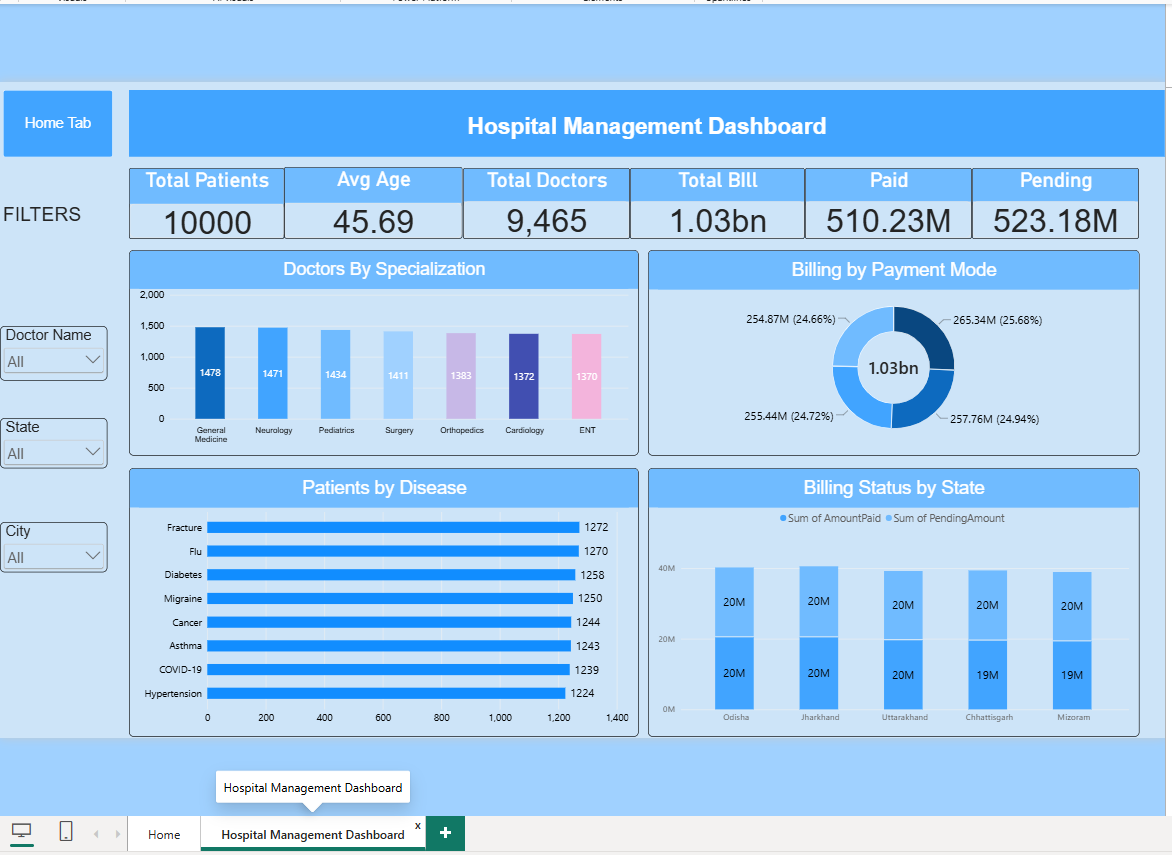

Layout of this report page (visuals, bound fields, positions):
{"tool":"powerbi","page":{"name":"Hospital Management Dashboard","canvas":[1920,1080],"ordinal":1},"visuals":[{"type":"cardVisual","title":"Total Patients","fields":{"Data":["Count(Hospital_Management_10k_Records.PatientID)"]},"box":[212.8,142.4,256,116.8],"z":0},{"type":"cardVisual","title":"Avg Age","fields":{"Data":["Avg(Hospital_Management_10k_Records.Age)"]},"box":[468.8,140.8,294.4,118.4],"z":1000},{"type":"cardVisual","title":"Total Doctors","fields":{"Data":["Count(Hospital_Management_10k_Records.DoctorName)"]},"box":[763.2,142.4,275.2,116.8],"z":2000},{"type":"columnChart","title":"Doctors By Specialization","fields":{"Category":["Hospital_Management_10k_Records.Specialization"],"Series":["Hospital_Management_10k_Records.Specialization"],"Y":["Count(Hospital_Management_10k_Records.DoctorName)"]},"box":[212.8,276.8,840,339.2],"z":3000},{"type":"donutChart","title":"Billing by Payment Mode","fields":{"Category":["Hospital_Management_10k_Records.PaymentMode"],"Y":["Sum(Hospital_Management_10k_Records.TotalBillAmount)"]},"box":[1067.2,276.8,809.6,339.2],"z":4000},{"type":"barChart","title":"Patients by Disease","fields":{"Category":["Hospital_Management_10k_Records.Disease"],"Y":["Count(Hospital_Management_10k_Records.PatientID)"]},"box":[212.8,636.8,840,443.2],"z":5000},{"type":"columnChart","title":"Billing Status by State","fields":{"Category":["Hospital_Management_10k_Records.State"],"Y":["Sum(Hospital_Management_10k_Records.AmountPaid)","Sum(Hospital_Management_10k_Records.PendingAmount)"]},"box":[1067.2,636.8,809.6,443.2],"z":6000},{"type":"slicer","fields":{"Values":["Hospital_Management_10k_Records.DoctorName"]},"box":[0,401.3,177.1,90.4],"z":7000},{"type":"slicer","fields":{"Values":["Hospital_Management_10k_Records.State"]},"box":[0,554,177.1,82.9],"z":8000},{"type":"slicer","fields":{"Values":["Hospital_Management_10k_Records.City"]},"box":[0,725.4,177.1,82.9],"z":9000},{"type":"textbox","box":[212.8,12.8,1707.2,110.4],"z":10000},{"type":"actionButton","box":[5.7,13.2,180.9,111.2],"z":11000},{"type":"cardVisual","title":"Total BIll ","fields":{"Data":["Sum(Hospital_Management_10k_Records.TotalBillAmount)"]},"box":[1038.4,142.4,288,116.8],"z":12000},{"type":"cardVisual","title":"Paid","fields":{"Data":["Sum(Hospital_Management_10k_Records.AmountPaid)"]},"box":[1326.4,142.4,275.2,116.8],"z":13000},{"type":"cardVisual","title":"Pending","fields":{"Data":["Sum(Hospital_Management_10k_Records.PendingAmount)"]},"box":[1601.6,142.4,275.2,116.8],"z":14000},{"type":"shape","box":[0,175.2,178,904.8],"z":15000},{"type":"textbox","box":[22.6,199.7,135.7,58.4],"z":16000}]}

Visuals, with their boxes on the page's 1920x1080 design canvas (x1, y1, x2, y2). These are canvas units, not pixel positions in the 1172x855 screenshot, which may show the page scaled, cropped or inside an application window:
"Total Patients" cardVisual: <region>213, 142, 469, 259</region>
"Avg Age" cardVisual: <region>469, 141, 763, 259</region>
"Total Doctors" cardVisual: <region>763, 142, 1038, 259</region>
"Doctors By Specialization" columnChart: <region>213, 277, 1053, 616</region>
"Billing by Payment Mode" donutChart: <region>1067, 277, 1877, 616</region>
"Patients by Disease" barChart: <region>213, 637, 1053, 1080</region>
"Billing Status by State" columnChart: <region>1067, 637, 1877, 1080</region>
slicer - Hospital_Management_10k_Records.DoctorName: <region>0, 401, 177, 492</region>
slicer - Hospital_Management_10k_Records.State: <region>0, 554, 177, 637</region>
slicer - Hospital_Management_10k_Records.City: <region>0, 725, 177, 808</region>
textbox: <region>213, 13, 1920, 123</region>
actionButton: <region>6, 13, 187, 124</region>
"Total BIll " cardVisual: <region>1038, 142, 1326, 259</region>
"Paid" cardVisual: <region>1326, 142, 1602, 259</region>
"Pending" cardVisual: <region>1602, 142, 1877, 259</region>
shape: <region>0, 175, 178, 1080</region>
textbox: <region>23, 200, 158, 258</region>
